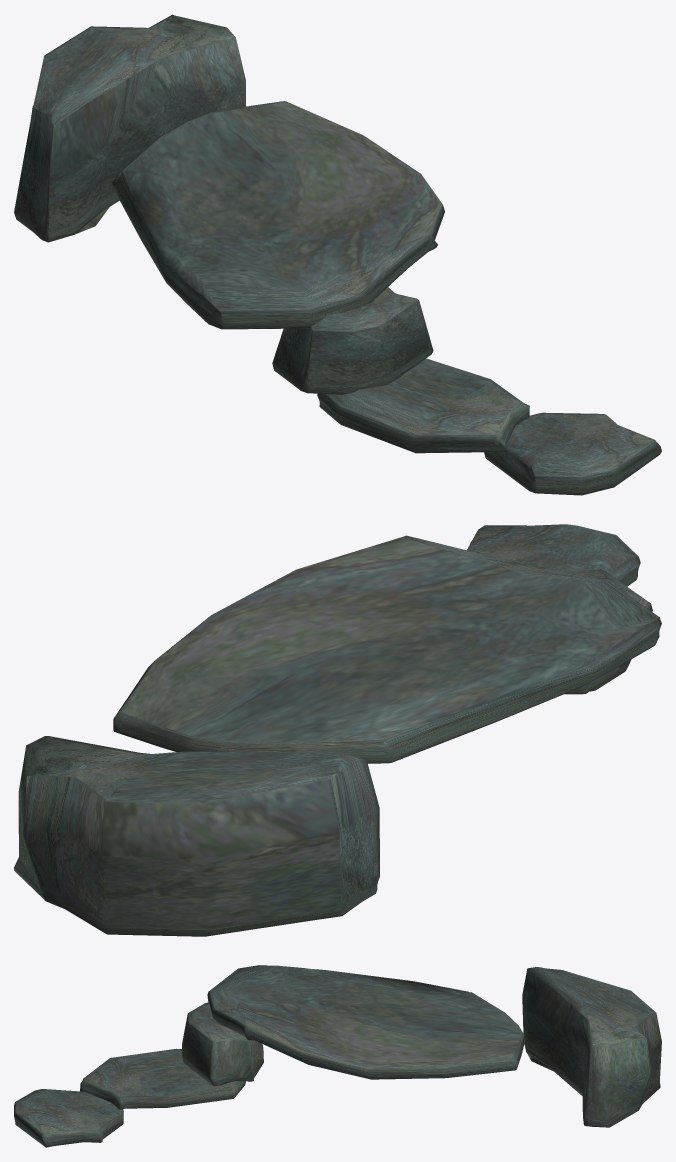
Rendered from Obstacle_course1.glb.
The picture shows the model from 3 angles, top to bottom: view 1: azimuth 30°, elevation 25°; view 2: azimuth 150°, elevation 25°; view 3: azimuth 270°, elevation 25°; orthographic projection. The views are drawn at different scales.
Visible parts, largest first — view 1: Backup rock.004, Backup rock.005, Backup rock.002, Backup rock.003, Backup rock.001; view 2: Backup rock.004, Backup rock.005, Backup rock.001, Backup rock.002; view 3: Backup rock.004, Backup rock.005, Backup rock.002, Backup rock.001, Backup rock.003.
Part boxes in pixels (x1,y1,x2,y2): Backup rock.004: (112, 101, 444, 329); Backup rock.005: (14, 14, 245, 242); Backup rock.002: (317, 358, 529, 453); Backup rock.003: (272, 287, 433, 394); Backup rock.001: (484, 412, 661, 495); Backup rock.004: (113, 535, 661, 763); Backup rock.005: (14, 736, 379, 936); Backup rock.001: (467, 524, 640, 586); Backup rock.002: (575, 569, 652, 691); Backup rock.004: (207, 965, 524, 1079); Backup rock.005: (522, 967, 661, 1127); Backup rock.002: (80, 1048, 245, 1109); Backup rock.001: (14, 1089, 123, 1147); Backup rock.003: (182, 1002, 263, 1086).
Size of the model in its own units: 35.53 by 15.88 by 94.38.
1 material, 1 textured.
